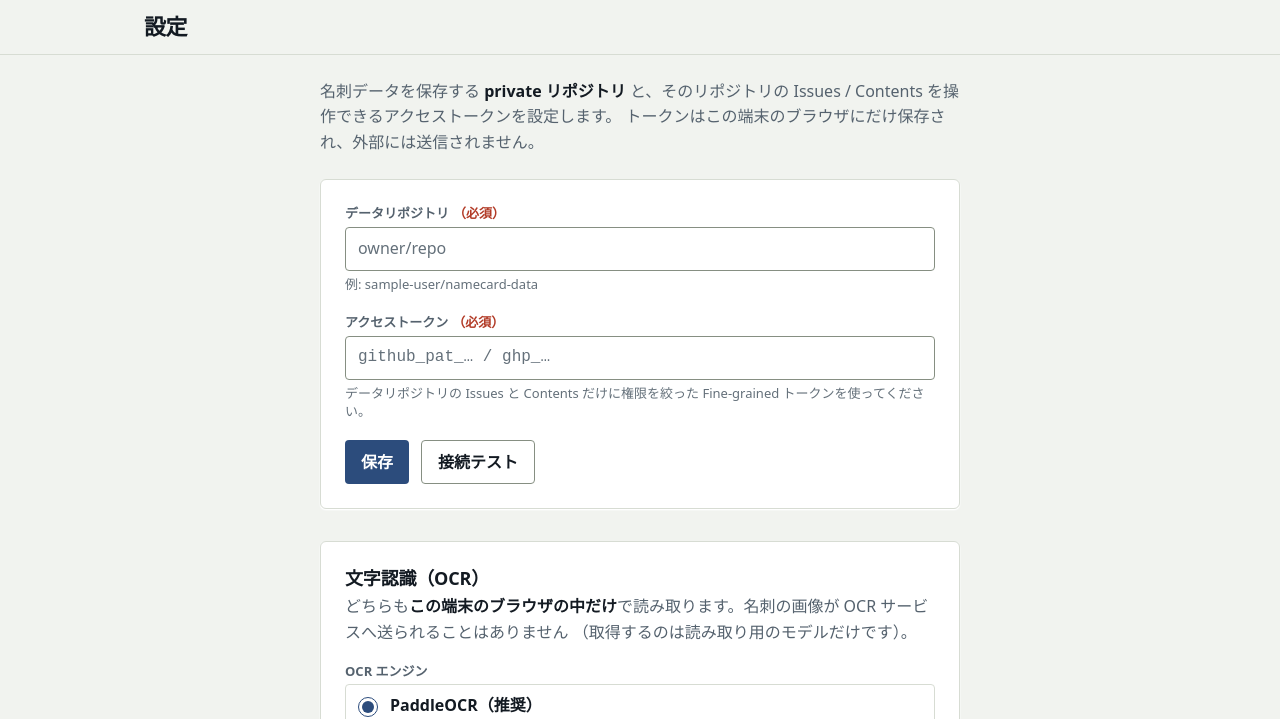
Test: 設定画面 / 接続テストのエラー分岐 › 401 のとき トークンが無効です と出る
Step 1. Type "sample-user/namecard-data" into the field labelled "データリポジトリ（必須）" → (640, 249), box top-left (345, 227), bottom-right (935, 271)
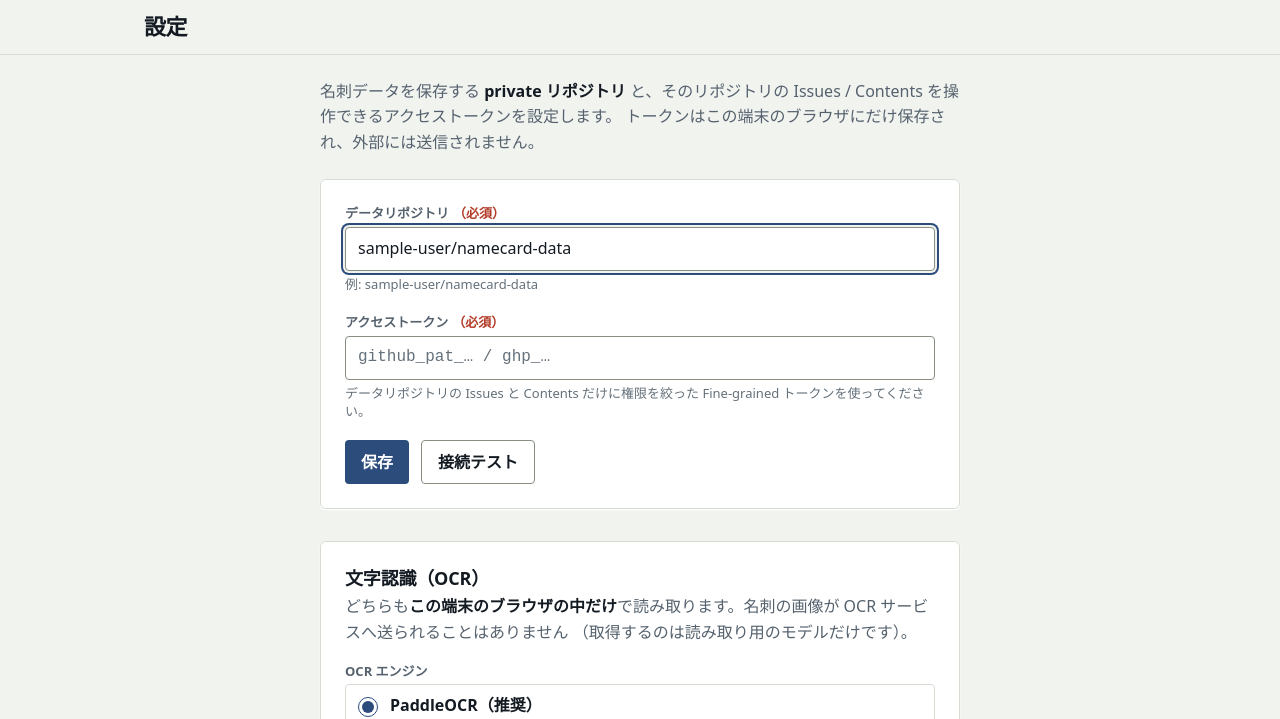
Step 2. Type "ghp_bad" into the password field named "アクセストークン" → (640, 358), box top-left (345, 336), bottom-right (935, 380)
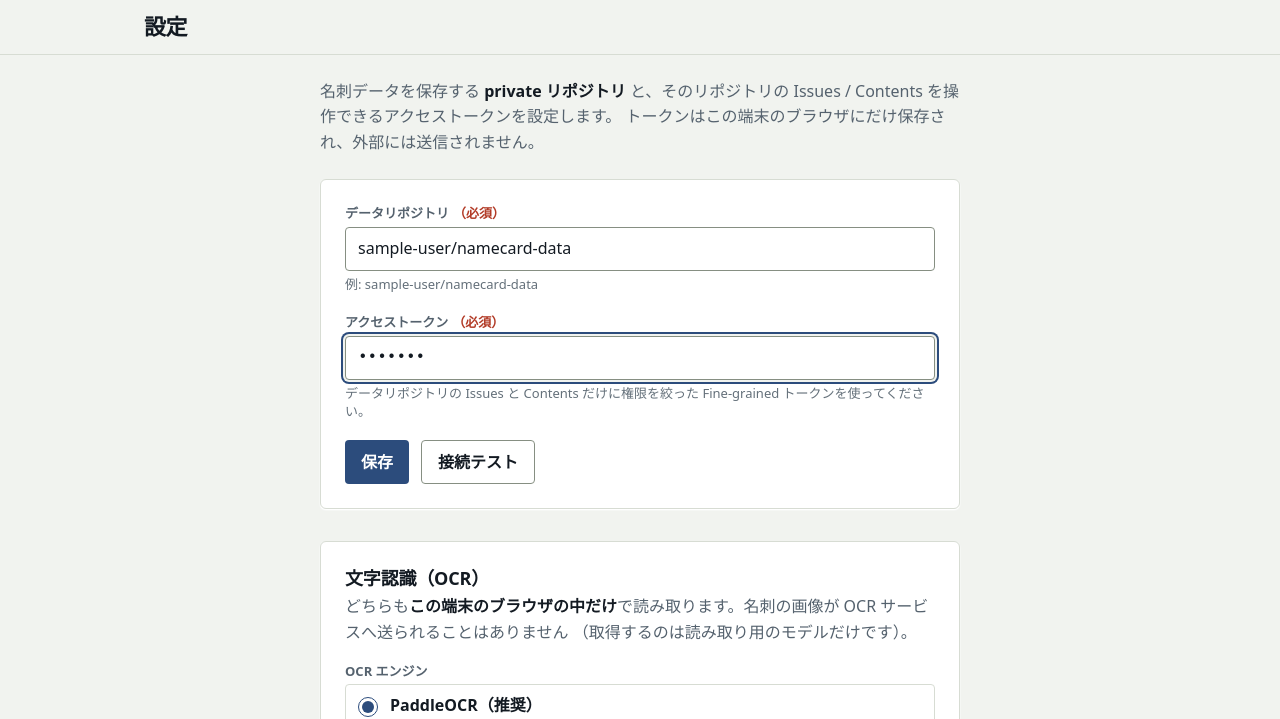
Step 3. Click the button "接続テスト" → click(478, 462), box top-left (421, 440), bottom-right (535, 484)
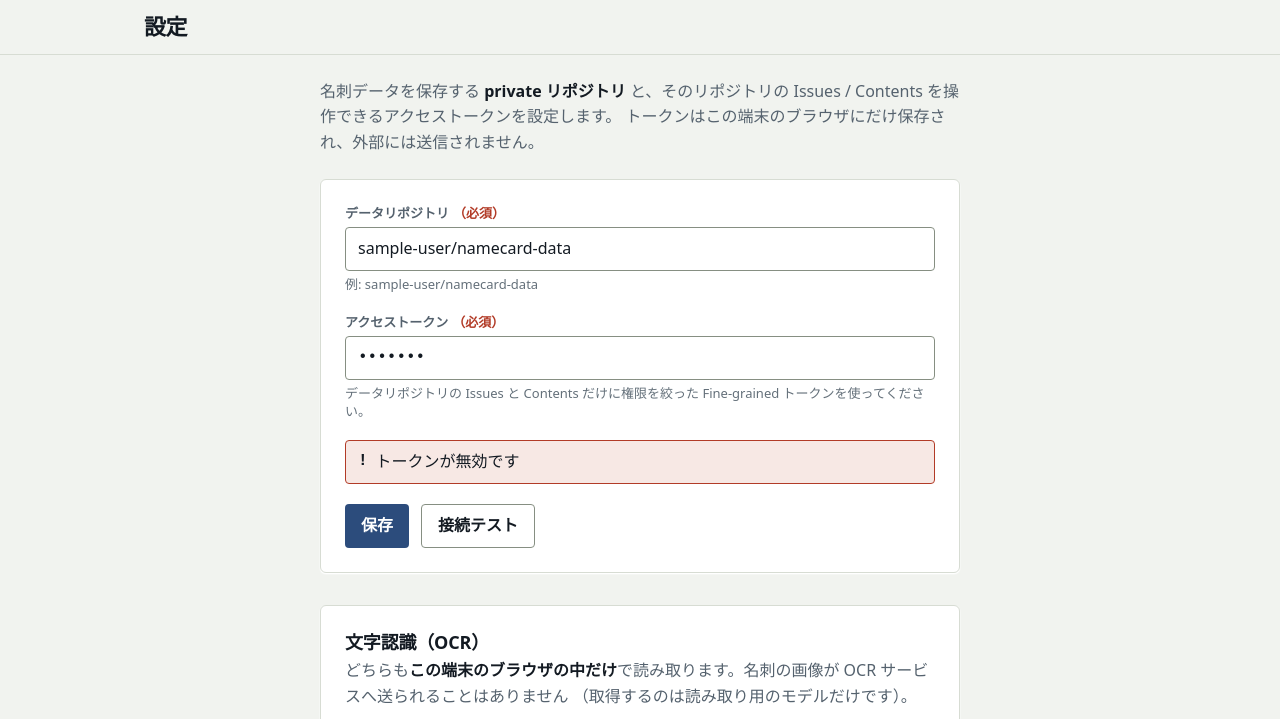
Check: the text "トークンが無効です" is shown, box top-left (376, 449), bottom-right (520, 475)
